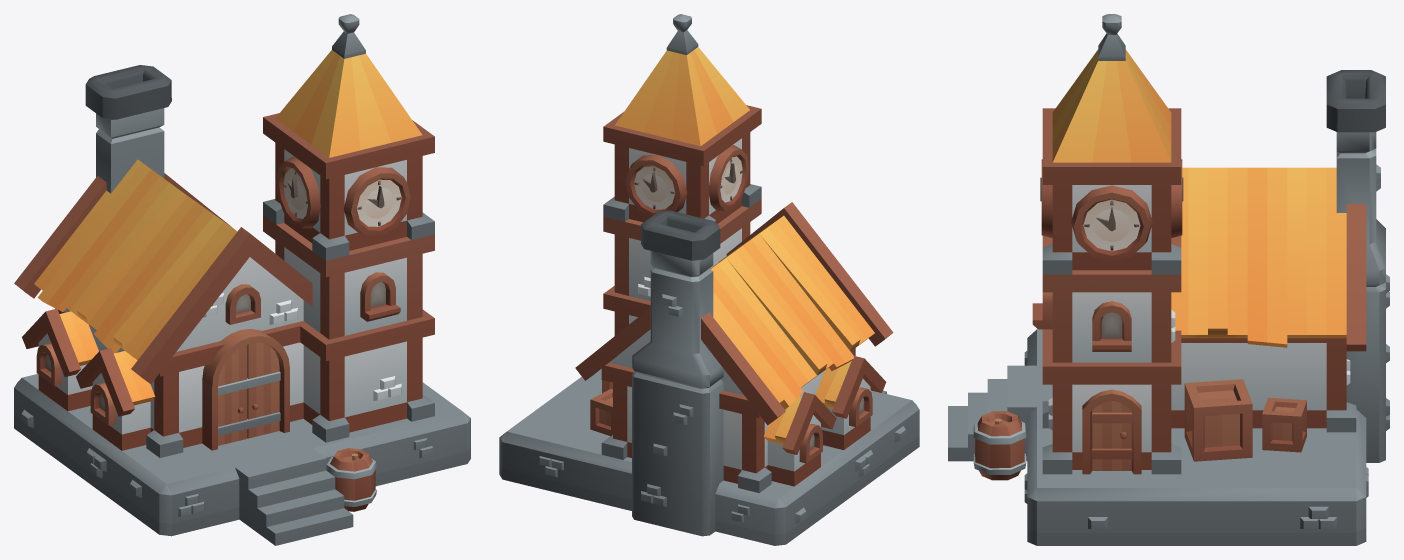
The model's file is townhall_yellow.glb.
3 renders of one model, left to right at view 1: azimuth 30°, elevation 25°; view 2: azimuth 150°, elevation 25°; view 3: azimuth 270°, elevation 25°, orthographic. The views are drawn at different scales.
Parts seen in each view (by area): view 1: townhall_yellow; view 2: townhall_yellow; view 3: townhall_yellow.
Part boxes in pixels (x1,y1,x2,y2): townhall_yellow: [14, 14, 470, 545]; townhall_yellow: [499, 14, 919, 545]; townhall_yellow: [948, 14, 1389, 545].
Bounding box in the file's own units: 0.7175 × 0.9431 × 0.7818.
Materials: 1 (1 with a texture image).
